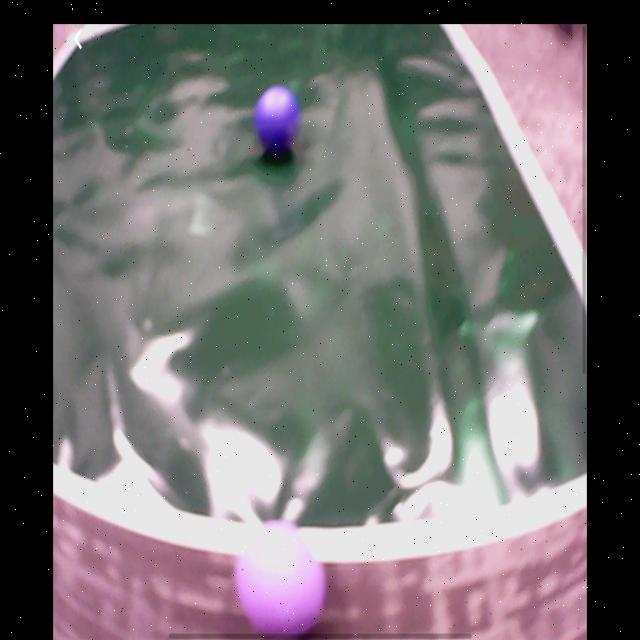ball: (235, 519, 325, 634), (256, 86, 300, 152)
